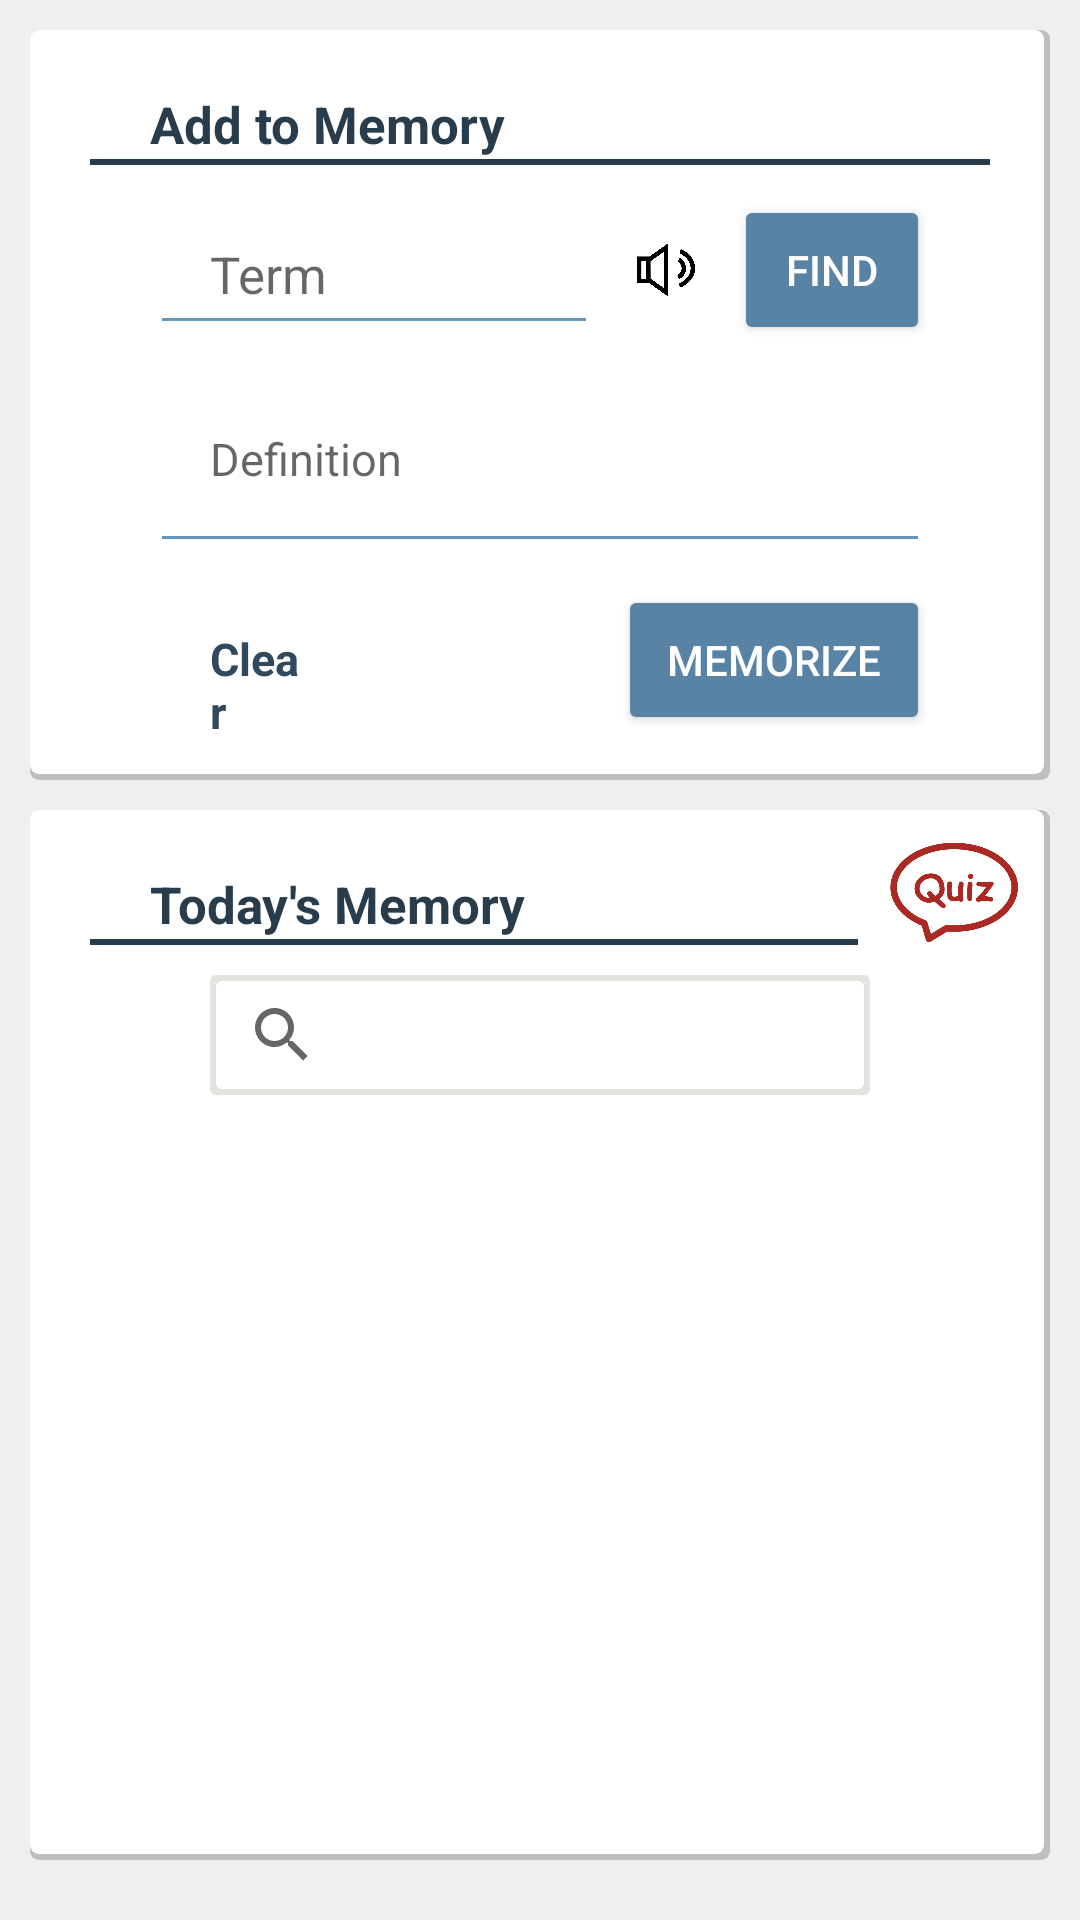

Named icons in this screenshot (1080 × 1920) and their centers, [x,y]:
speak: [666,270]
